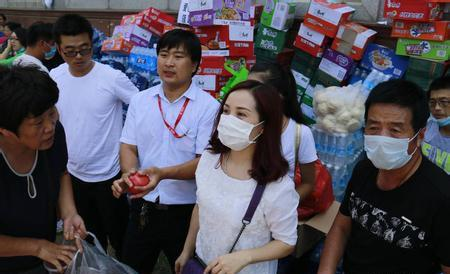NONE: (25, 109, 60, 150), (159, 49, 189, 84), (64, 42, 94, 69), (12, 36, 23, 51)
OK: (361, 115, 412, 166), (218, 105, 262, 149), (37, 39, 59, 62)
WRONG: (431, 94, 450, 127)
